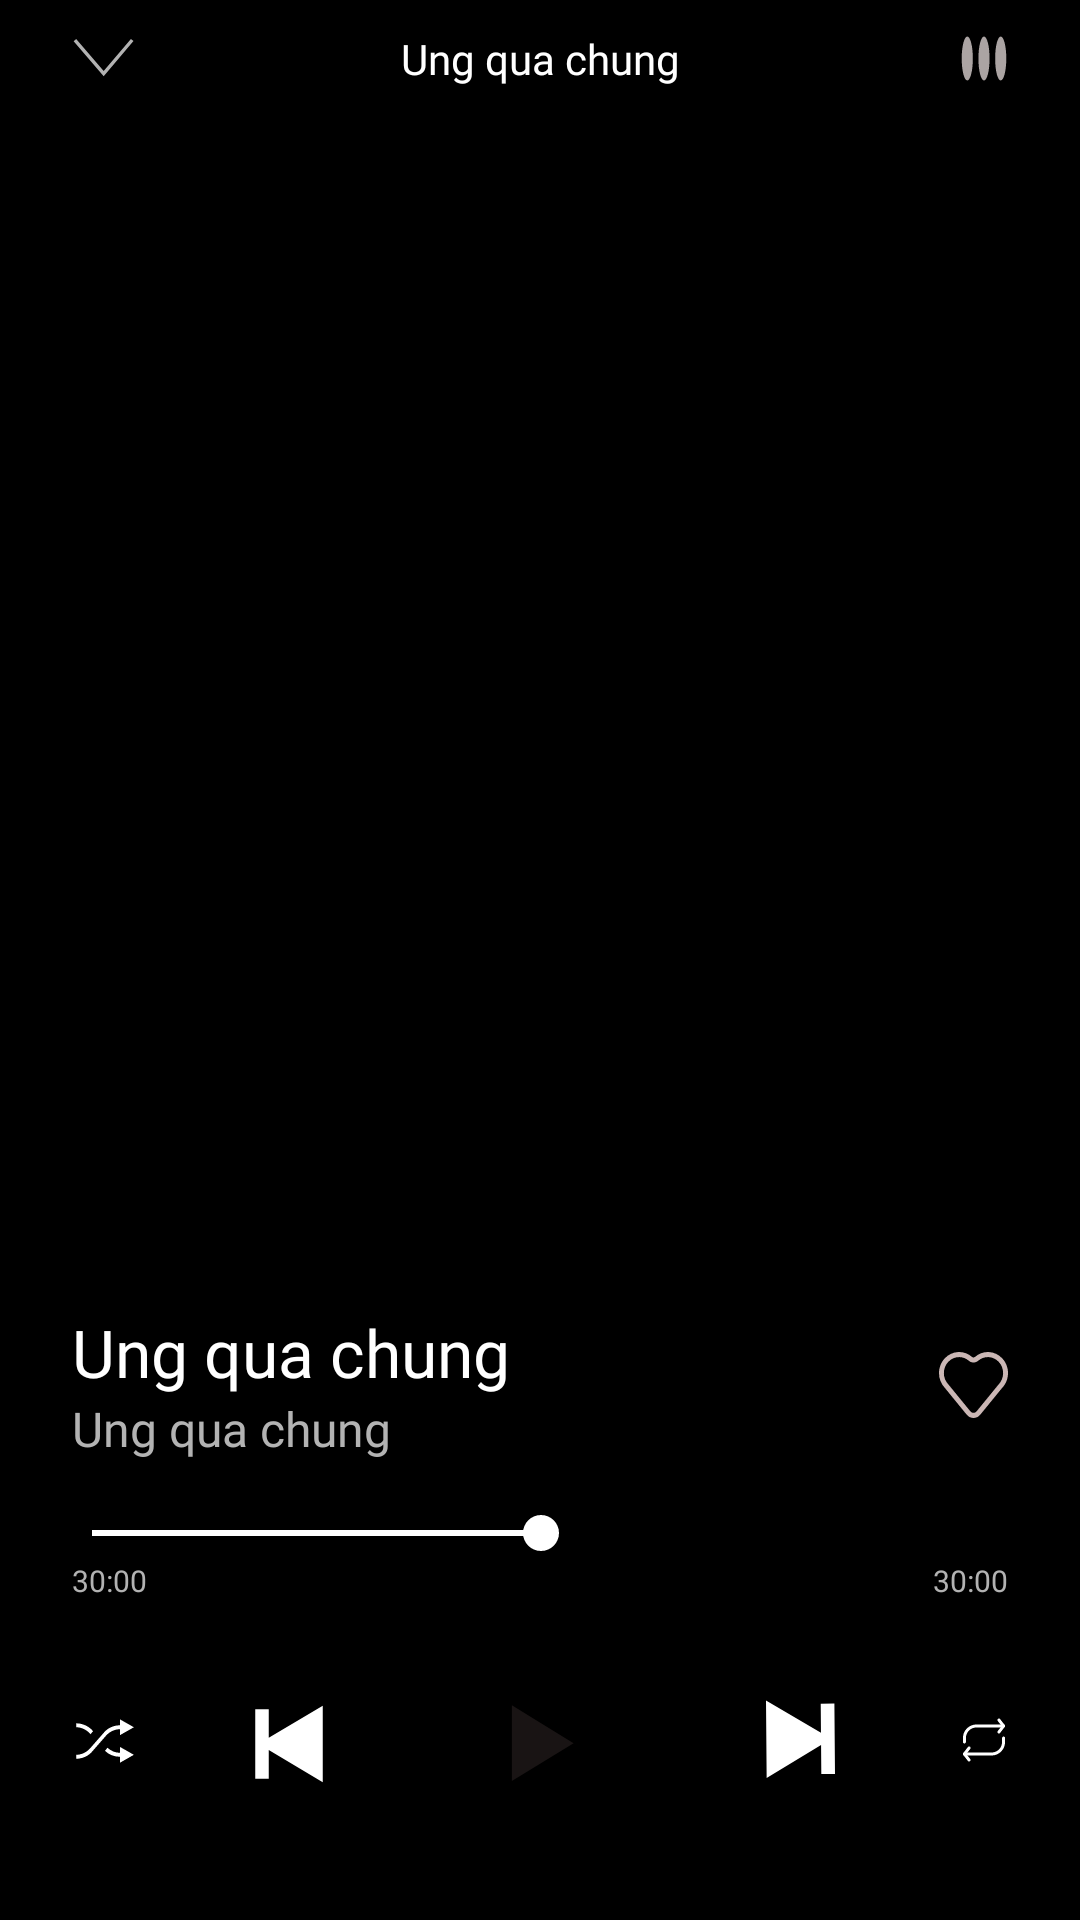

Where icons sit on this 1080 x 1920 app screen, as (x1, y1, x2, y2):
chevron down: (74, 39, 133, 76)
like stroke: (939, 1352, 1008, 1418)
more: (961, 36, 1007, 81)
next: (766, 1700, 835, 1778)
prev: (255, 1706, 323, 1782)
repeat: (963, 1718, 1005, 1762)
shuffle: (76, 1719, 134, 1763)
triangle: (512, 1706, 572, 1780)
